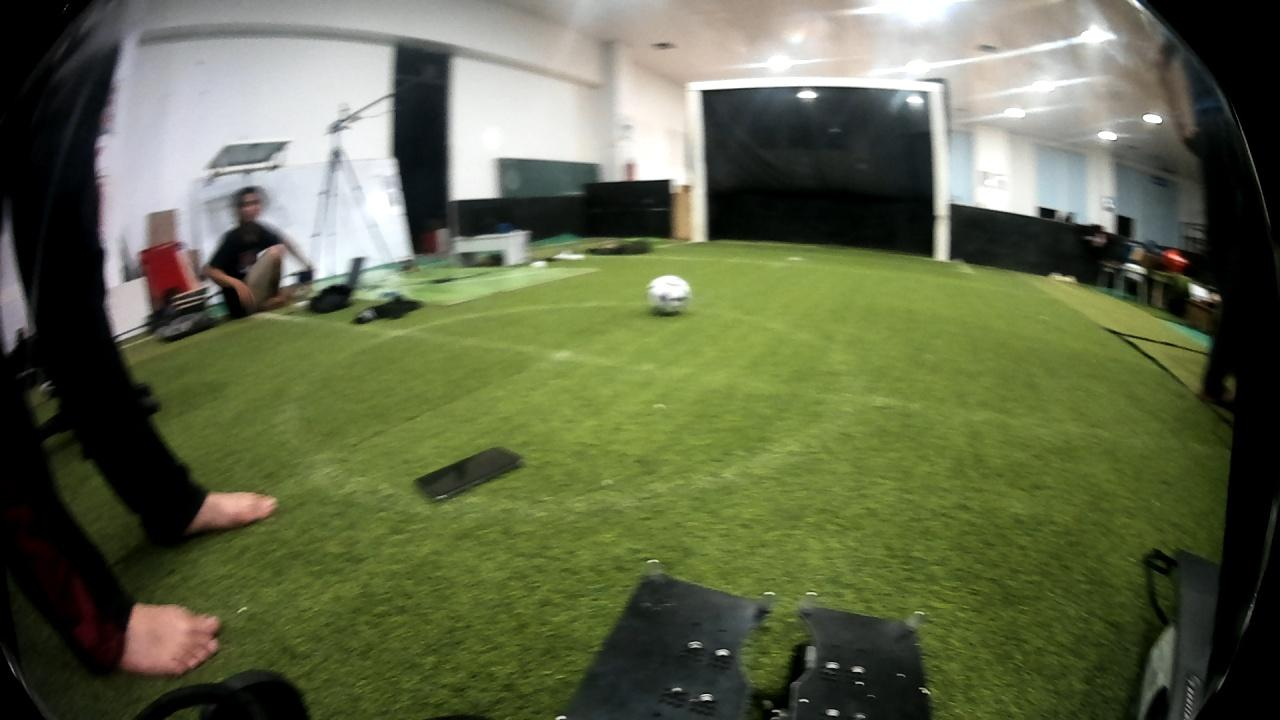ball: (643, 273, 695, 319)
